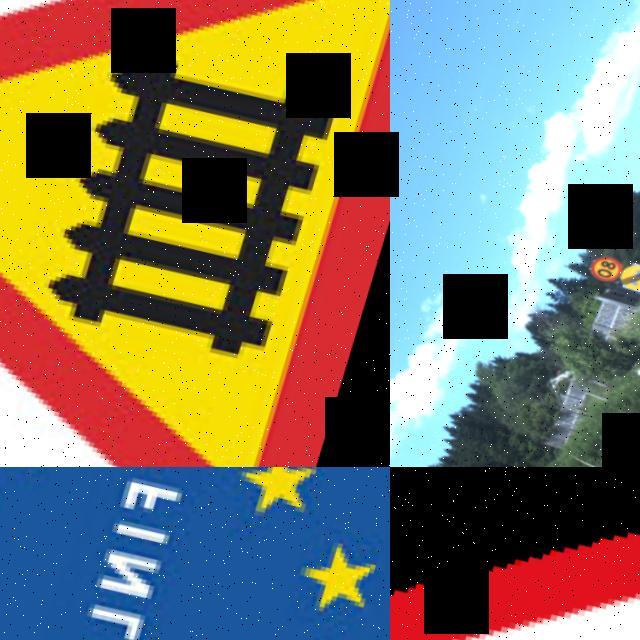108: (615, 262, 640, 297)
143: (0, 0, 390, 467)
55: (586, 253, 628, 288)
National border: (0, 467, 390, 640)
Steep ascent: (390, 467, 640, 640)
